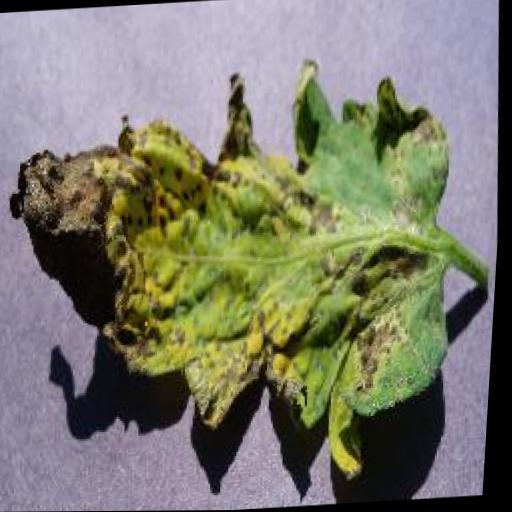Septoria: (0, 53, 473, 495)
